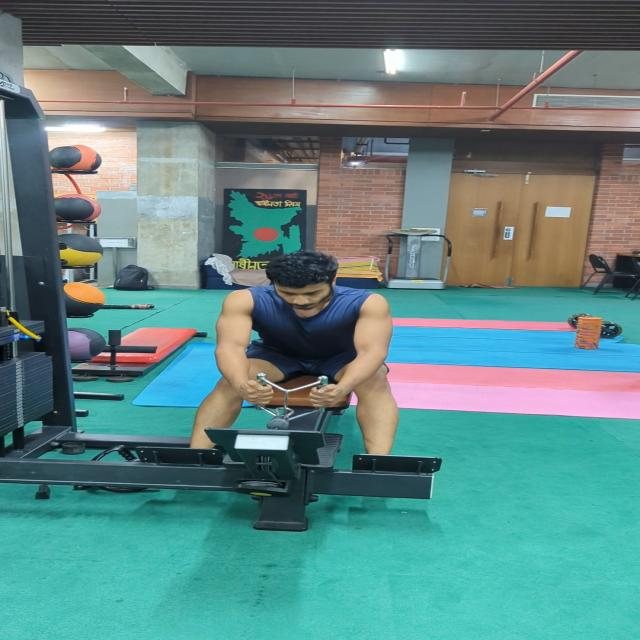Normal_RowingMachineExercise: (186, 250, 399, 460)
